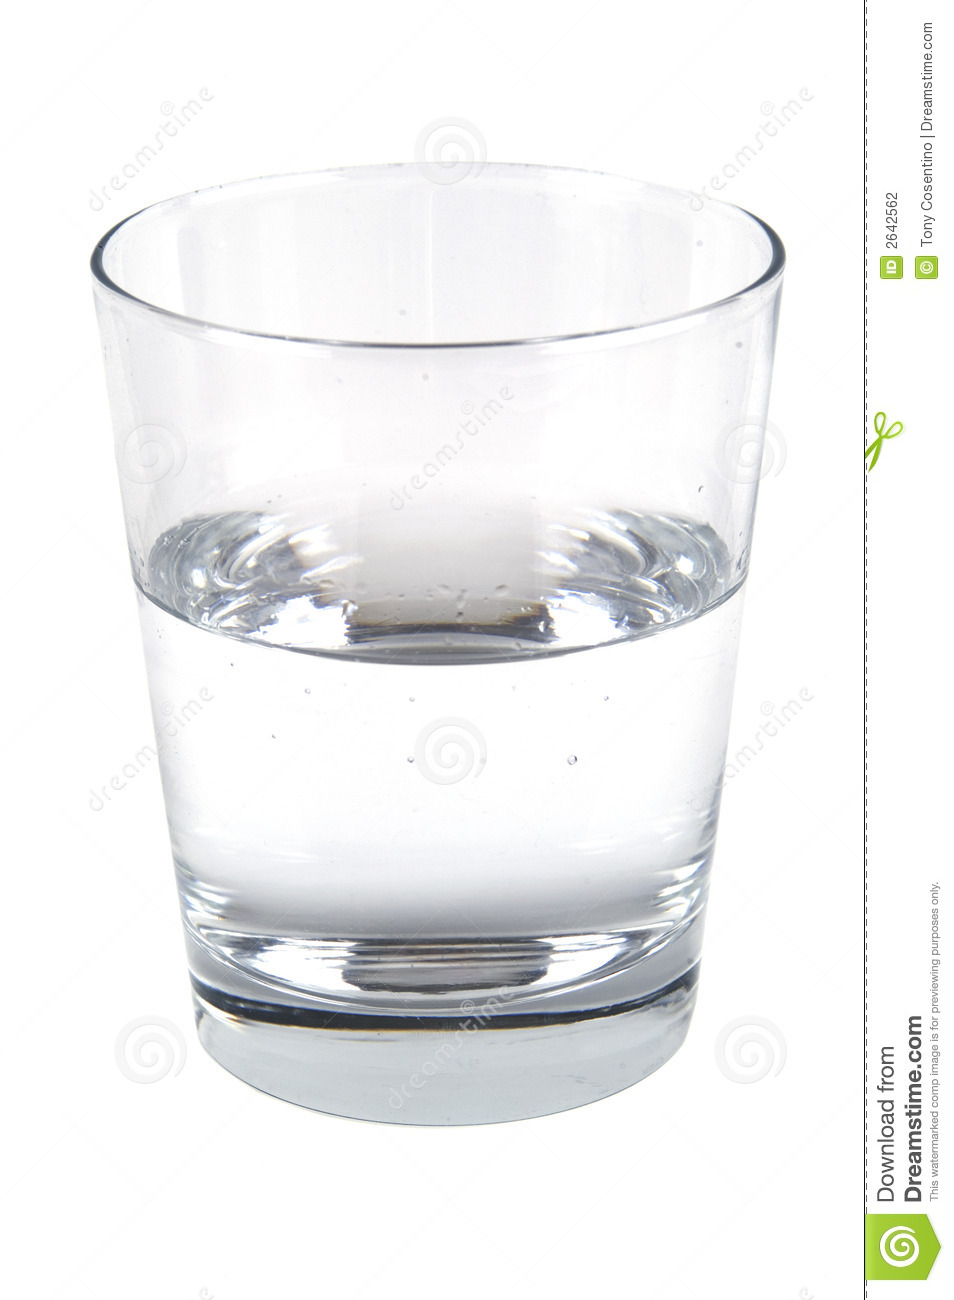glass of water: (140, 266, 725, 1081)
